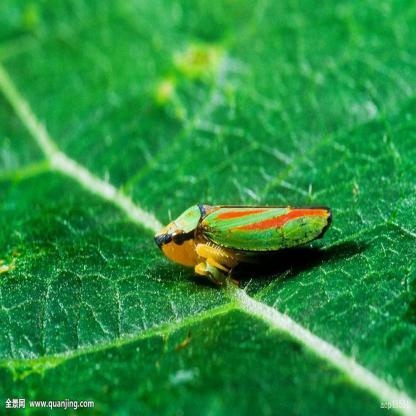green-leafhopper: (149, 192, 334, 272)
